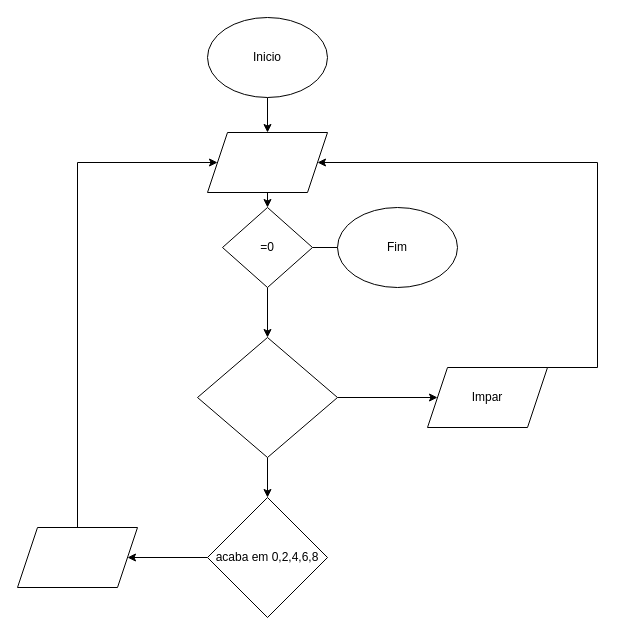
Image size: 623x635. Some labels were removed from this diagram. The box of each missing label's shape, as (x1, y1, x2, y2) in pixels:
acaba em 1,3,5,7 ,9: (196, 336, 338, 458)
Par: (16, 526, 138, 588)
Pedir n: (206, 132, 328, 192)
